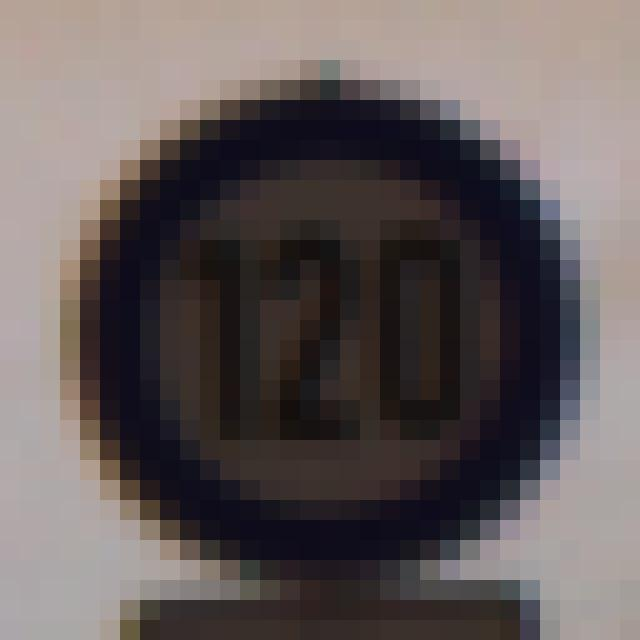SPEED LIMIT 120: (71, 87, 584, 563)
